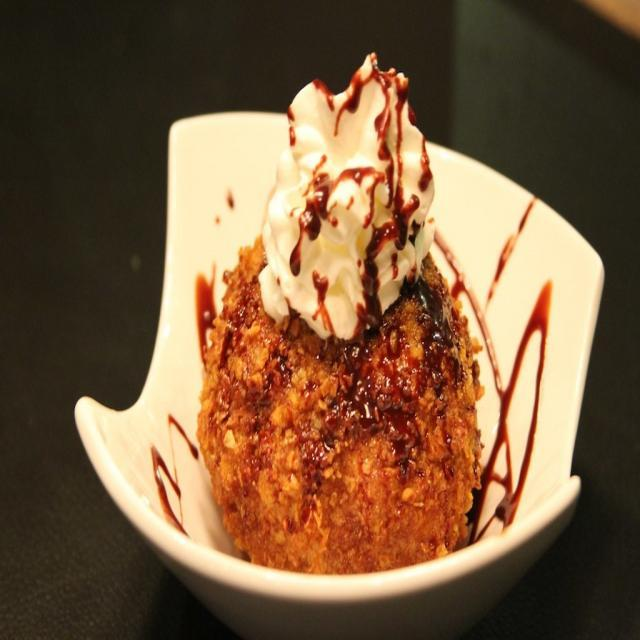Ice cream: (173, 6, 493, 582)
